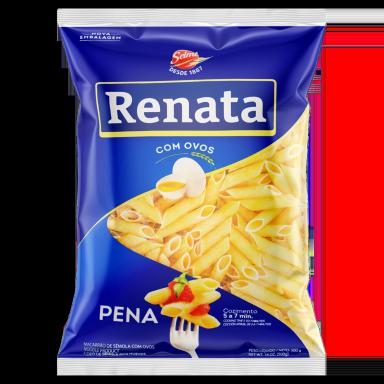pasta package: (58, 9, 325, 374)
